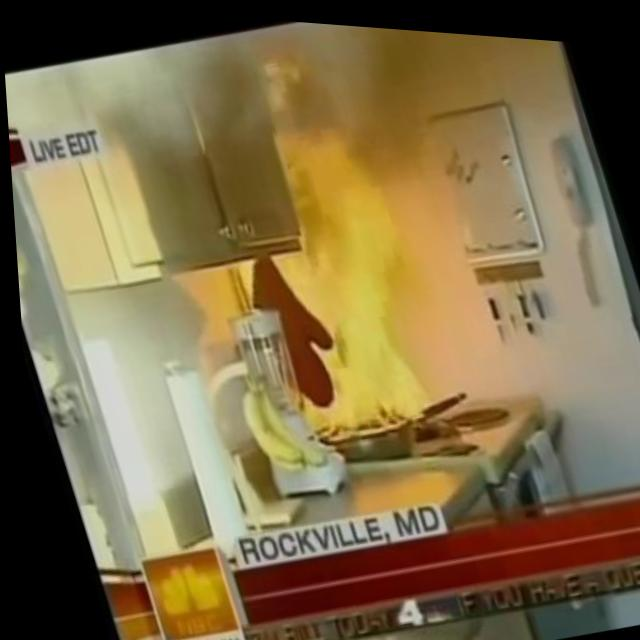fire: (189, 45, 463, 451)
